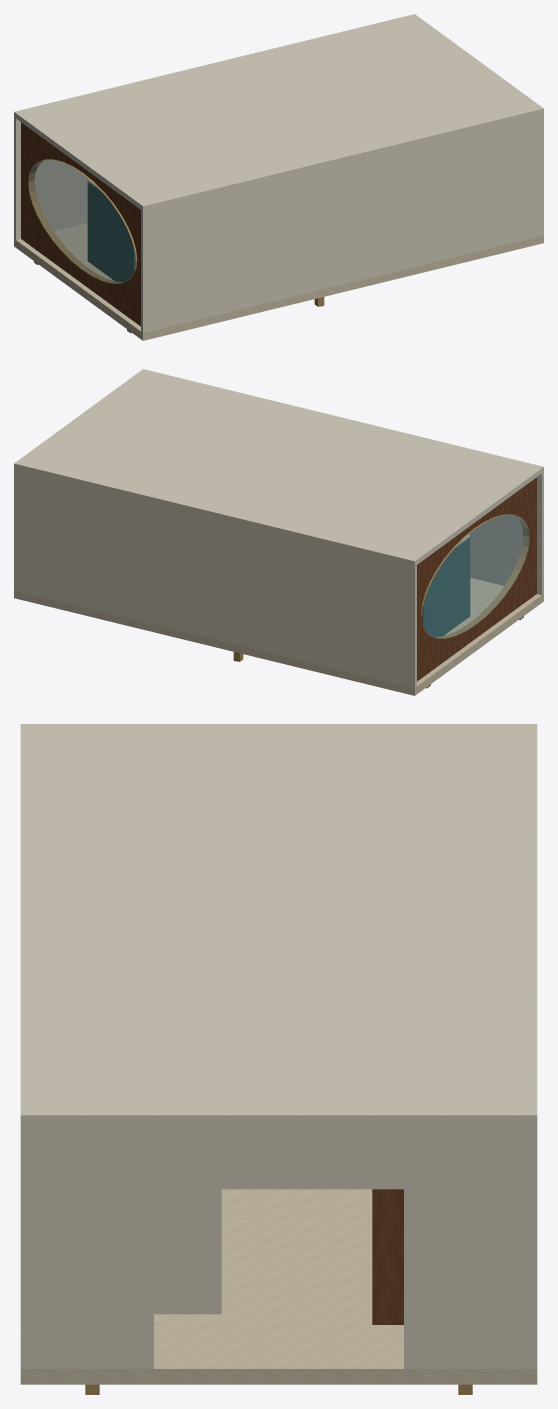
File: NightGardenD15Specialty_518_r002.glb
3 views of the same model, one above another, from view 1: azimuth 30°, elevation 25°; view 2: azimuth 150°, elevation 25°; view 3: azimuth 270°, elevation 25° (orthographic). The views are drawn at different scales.
Parts seen in each view (by area): view 1: NG518_RuntimeBatch_001, NG518_OvalAtriumGlass, NG518_RoomFloor, NG518_RuntimeBatch_002, NG518_RuntimeBatch_006, NG518_RuntimeBatch_004; view 2: NG518_RuntimeBatch_001, NG518_OvalAtriumGlass, NG518_RoomFloor, NG518_RuntimeBatch_002, NG518_RuntimeBatch_006, NG518_RuntimeBatch_004; view 3: NG518_RuntimeBatch_001, NG518_RoomFloor, NG518_RuntimeBatch_002.
Boxes of the visible parts, box(x1,y1,x2,y2) form: NG518_RuntimeBatch_001: box(14, 14, 543, 332); NG518_OvalAtriumGlass: box(28, 160, 135, 283); NG518_RoomFloor: box(14, 223, 543, 340); NG518_RuntimeBatch_002: box(21, 122, 140, 326); NG518_RuntimeBatch_006: box(87, 182, 135, 281); NG518_RuntimeBatch_004: box(28, 159, 324, 333); NG518_RuntimeBatch_001: box(14, 369, 543, 687); NG518_OvalAtriumGlass: box(422, 515, 529, 638); NG518_RoomFloor: box(14, 578, 543, 695); NG518_RuntimeBatch_002: box(417, 477, 536, 681); NG518_RuntimeBatch_006: box(422, 537, 470, 636); NG518_RuntimeBatch_004: box(233, 514, 529, 688); NG518_RuntimeBatch_001: box(20, 724, 537, 1368); NG518_RoomFloor: box(20, 1189, 537, 1384); NG518_RuntimeBatch_002: box(372, 1189, 403, 1324).
Bounding box in the file's own units: 12.9 × 4.91 × 7.2.
58 materials, 43 textured.
